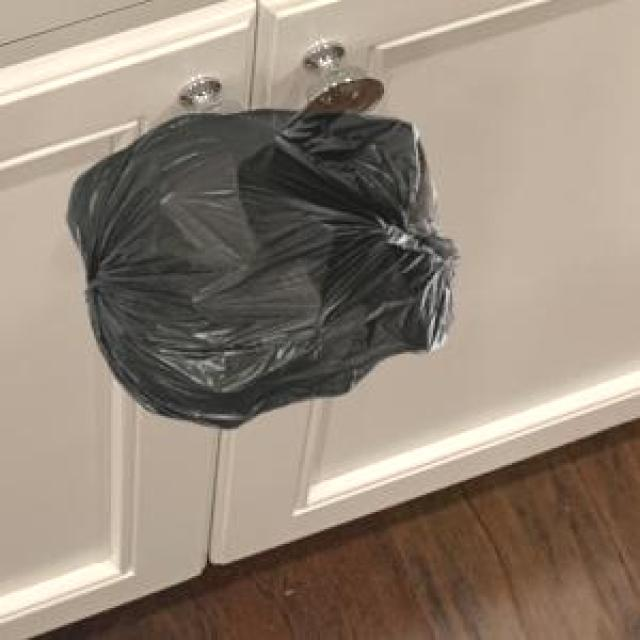Trashbag: (62, 89, 468, 435)
